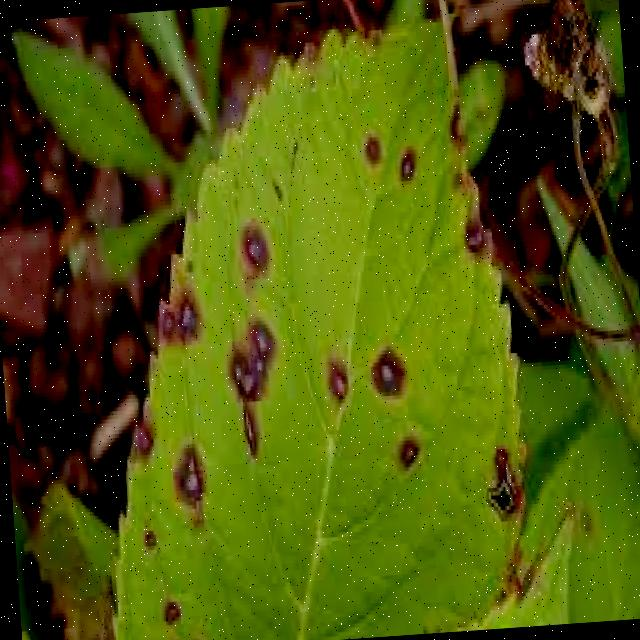leaf spot: (63, 0, 535, 640)
